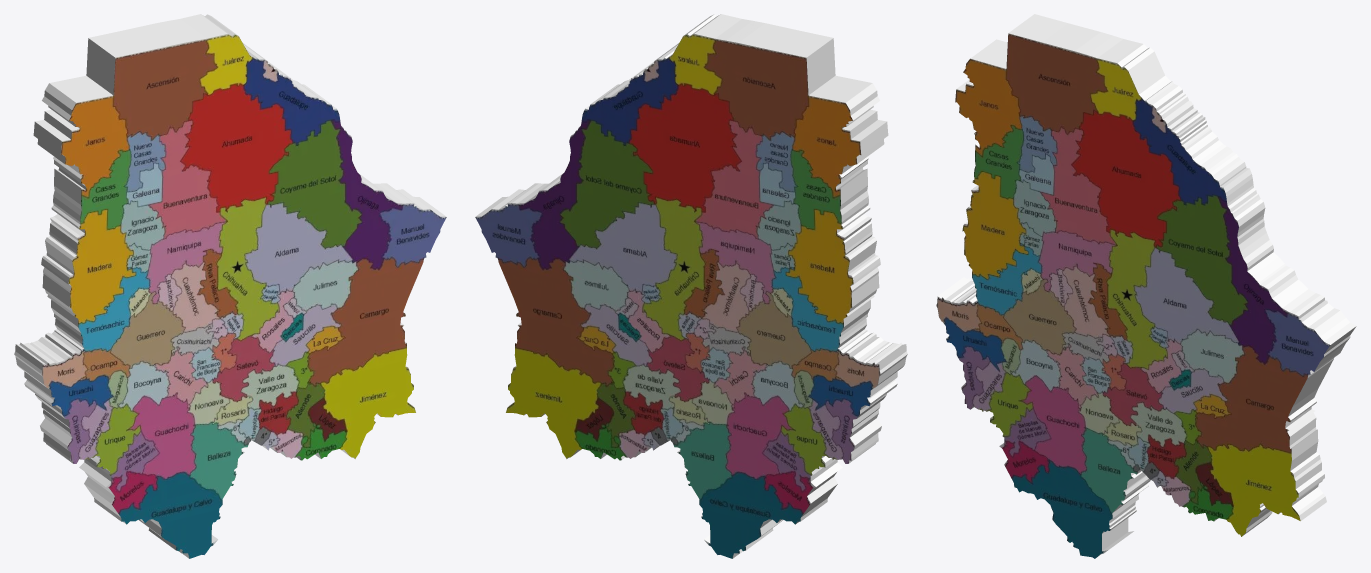
The model's file is chihuahua.glb.
3 views of the same model, side by side, from view 1: azimuth 30°, elevation 25°; view 2: azimuth 150°, elevation 25°; view 3: azimuth 330°, elevation 25° (orthographic). The views are drawn at different scales.
Visible parts, largest first — view 1: Plano; view 2: Plano; view 3: Plano.
Boxes of the visible parts, x1,y1,x2,y2 form: Plano: [14, 14, 446, 558]; Plano: [475, 14, 907, 558]; Plano: [936, 14, 1356, 558].
Size of the model in its own units: 0.5777 by 0.7067 by 0.0668.
Materials: 1 (1 with a texture image).
